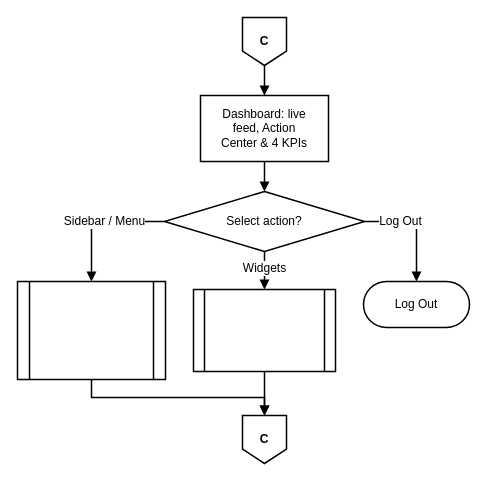
Image size: 488x482. Some labels were removed from this diagram. The shapes that lost their labels are listed below. From the top down, each one's box as (x1, y1, x2, y2) in pixels, then its label:
(16, 280, 166, 380): Catalog, Analytics, System Policies, Filtered Audit Logs & My Profile
(192, 288, 336, 372): Inventory, Circulation Desk, Logs, Users, Book or Card
